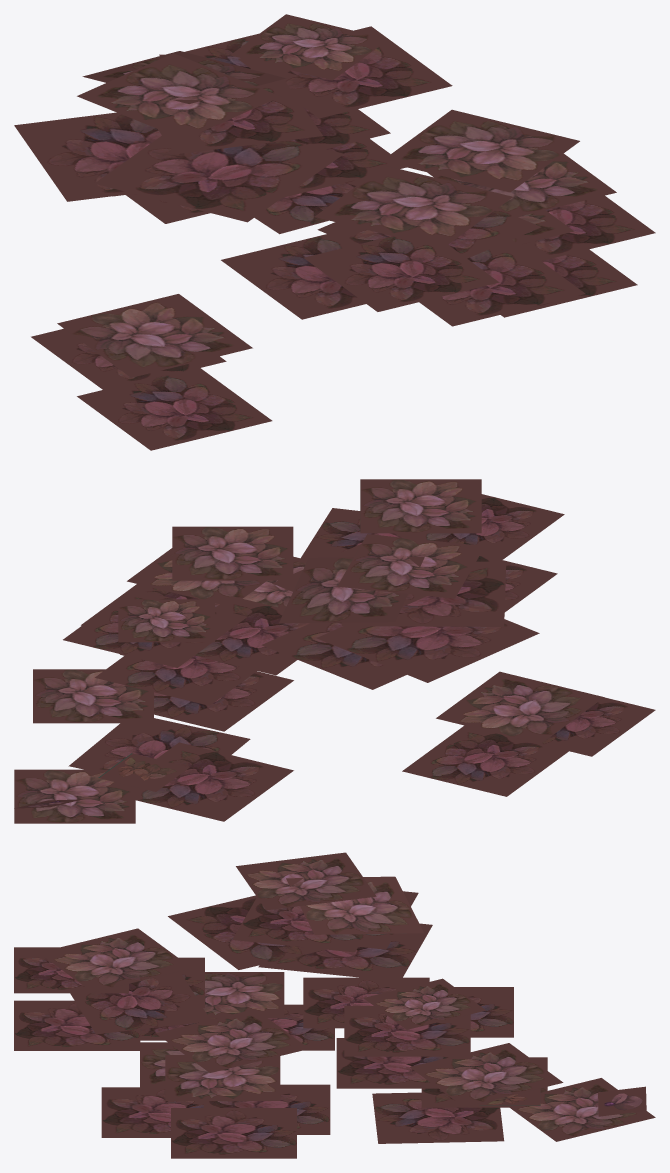
File: ZC_shu02.FBX
The picture shows the model from 3 angles, top to bottom: view 1: azimuth 30°, elevation 25°; view 2: azimuth 150°, elevation 25°; view 3: azimuth 270°, elevation 25°; orthographic projection. The views are drawn at different scales.
Visible parts, largest first — view 1: ZC_shu02_001; view 2: ZC_shu02_001; view 3: ZC_shu02_001.
Part boxes in pixels (<box>): ZC_shu02_001: <box>14,14,655,450</box>; ZC_shu02_001: <box>14,479,655,823</box>; ZC_shu02_001: <box>14,852,655,1158</box>.
Size of the model in its own units: 711 by 280 by 936.
